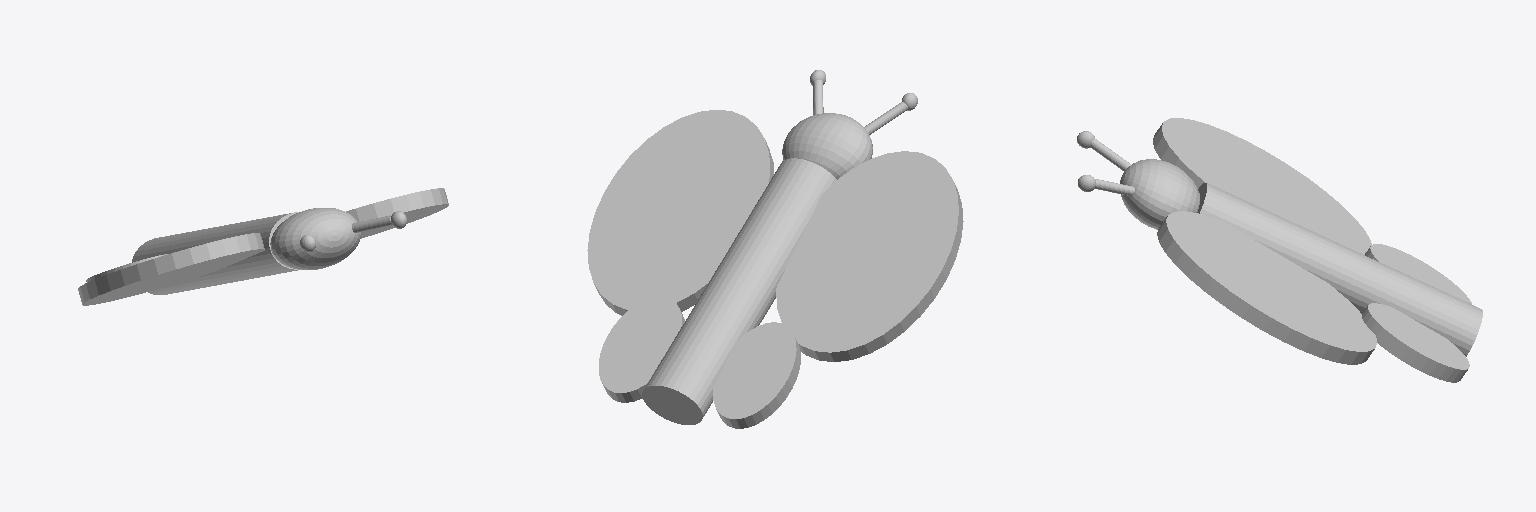
File: Motyl.obj
3 renders of one model, left to right at view 1: azimuth 30°, elevation 25°; view 2: azimuth 150°, elevation 25°; view 3: azimuth 270°, elevation 25°, orthographic.
Parts seen in each view (by area): view 1: Walec.001, Walec, Kula, Walec.002; view 2: Walec.001, Walec.002, Walec, Walec.003, Walec.004, Kula; view 3: Walec.002, Walec, Walec.001, Walec.004, Kula, Walec.003.
Boxes of the visible parts, x1,y1,x2,y2 form: Walec.001: [78, 233, 264, 305]; Walec: [132, 212, 298, 294]; Kula: [270, 208, 360, 269]; Walec.002: [346, 188, 448, 238]; Walec.001: [776, 151, 963, 361]; Walec.002: [587, 110, 773, 315]; Walec: [642, 158, 836, 424]; Walec.003: [713, 322, 800, 428]; Walec.004: [599, 296, 684, 402]; Kula: [782, 113, 872, 179]; Walec.002: [1157, 211, 1376, 364]; Walec: [1197, 183, 1482, 356]; Walec.001: [1153, 118, 1371, 254]; Walec.004: [1362, 303, 1469, 382]; Kula: [1120, 159, 1199, 229]; Walec.003: [1365, 244, 1471, 303].
Bounding box in the file's own units: 5.27 × 3.1 × 5.52.